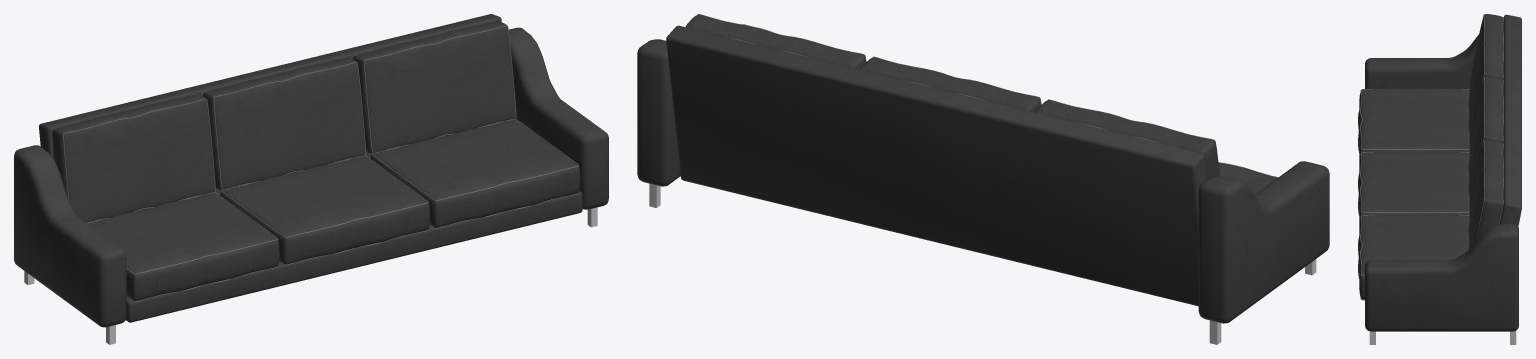
The model's file is couch_1.gltf.
The picture shows the model from 3 angles, left to right: view 1: azimuth 30°, elevation 25°; view 2: azimuth 150°, elevation 25°; view 3: azimuth 270°, elevation 25°; orthographic projection. The views are drawn at different scales.
Visible parts, largest first — view 1: Object_3, Object_2, Object_4; view 2: Object_3, Object_2, Object_4; view 3: Object_3, Object_2, Object_4.
Part boxes in pixels (x1,y1,x2,y2): Object_3: (14,14,608,327); Object_2: (52,21,578,302); Object_4: (24,207,597,344); Object_3: (637,14,1329,323); Object_2: (698,14,1278,177); Object_4: (649,183,1316,344); Object_3: (1358,14,1521,331); Object_2: (1360,14,1503,300); Object_4: (1369,331,1516,344).
Bounding box in the file's own units: 2.75 × 0.8176 × 0.8914.
